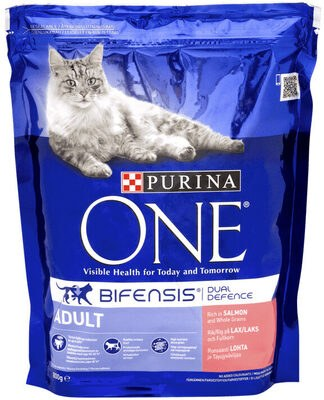Purina One Laks: (16, 20, 308, 380)
